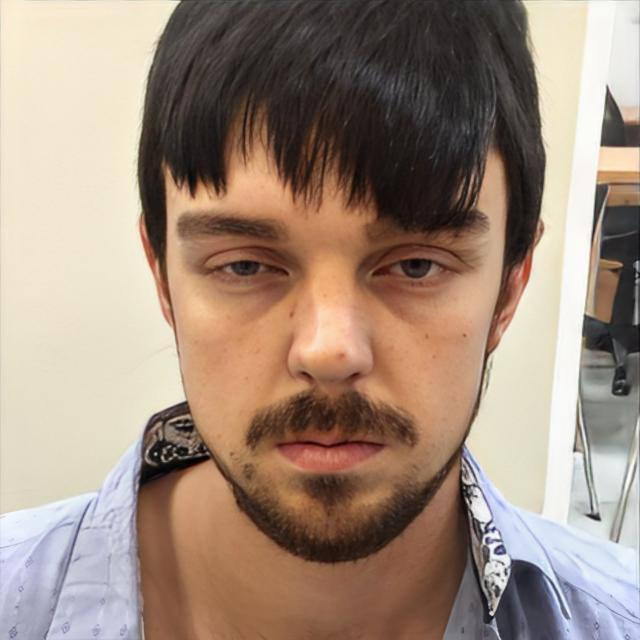sad: (166, 110, 499, 560)
